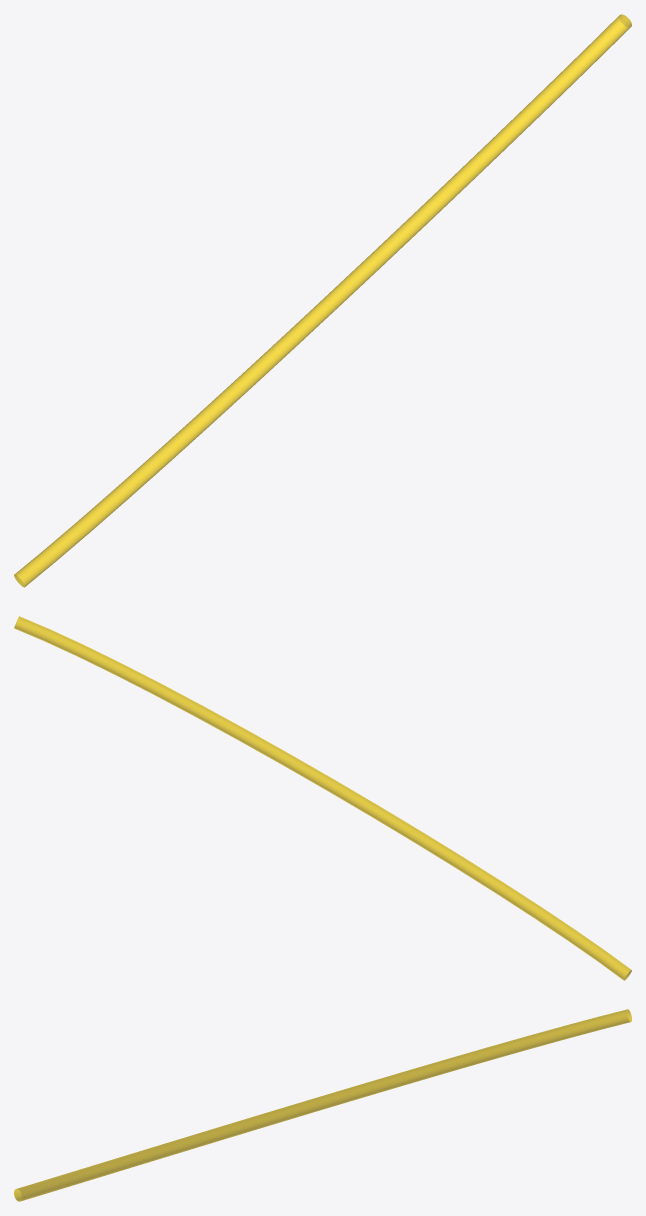
Rendered from Event_84804159_track_108.fbx.
3 views of the same model, one above another, from view 1: azimuth 30°, elevation 25°; view 2: azimuth 150°, elevation 25°; view 3: azimuth 330°, elevation 25° (orthographic). The views are drawn at different scales.
Visible parts, largest first — view 1: Model; view 2: Model; view 3: Model.
Boxes of the visible parts, <box> form: Model: <box>14,14,631,587</box>; Model: <box>14,616,631,980</box>; Model: <box>14,1009,631,1201</box>.
Bounding box in the file's own units: 1.92 × 0.921 × 0.424.
